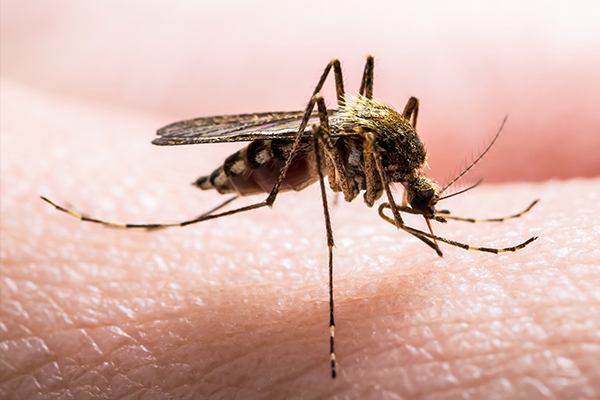mosquito: (33, 47, 542, 378)
